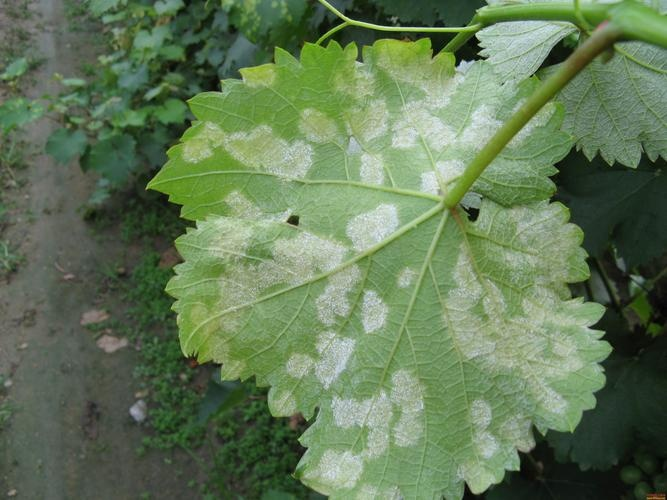Frost_Blight: (195, 201, 429, 442), (207, 49, 554, 174), (449, 218, 599, 429)
